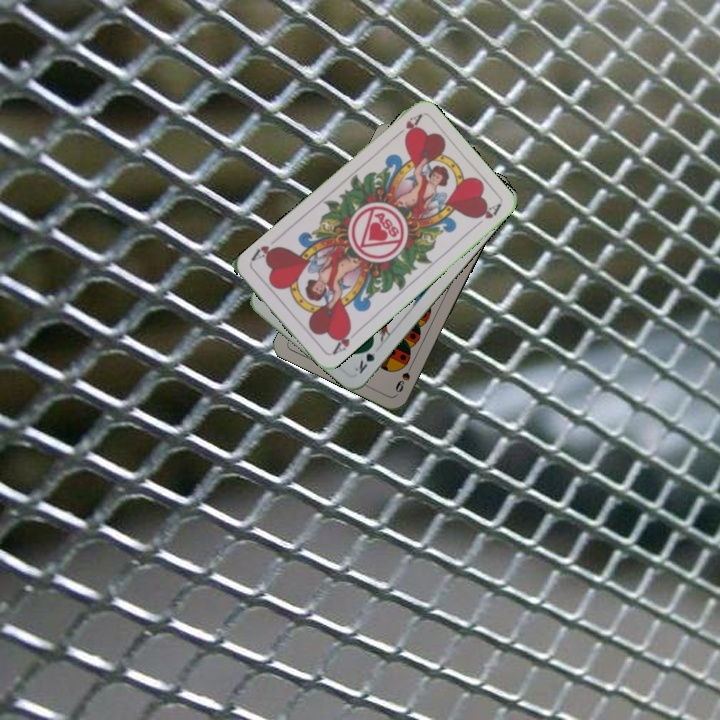GK: (350, 340, 379, 377)
HA: (389, 110, 424, 141), (328, 323, 354, 358)
S9: (391, 358, 416, 395)
